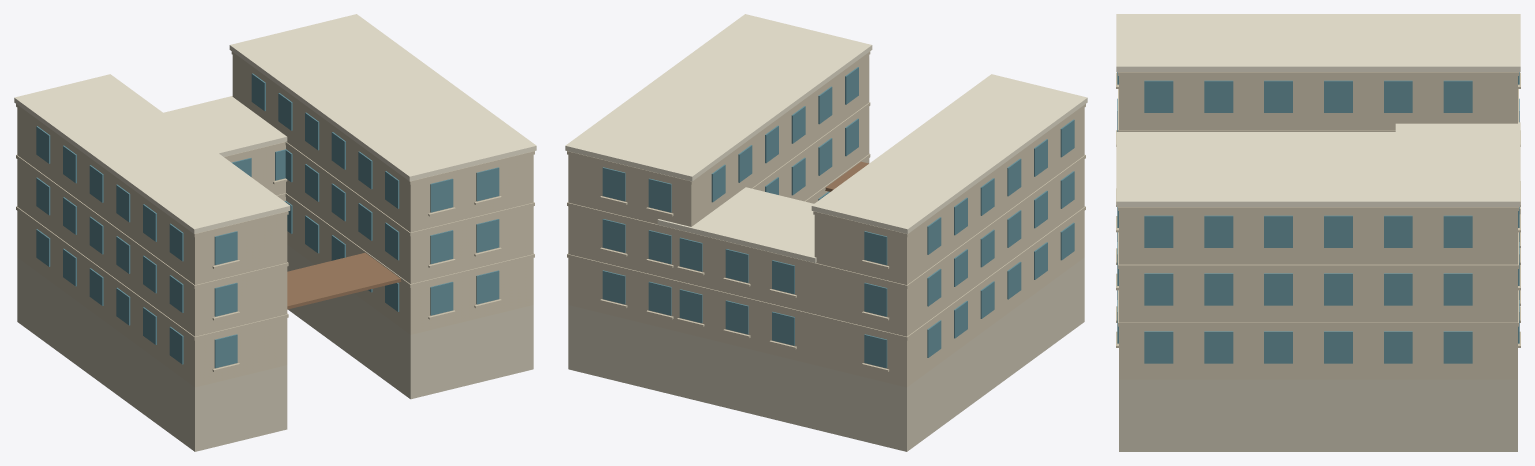
The model's file is courtyard-block-1.glb.
3 renders of one model, left to right at view 1: azimuth 30°, elevation 25°; view 2: azimuth 150°, elevation 25°; view 3: azimuth 270°, elevation 25°, orthographic. The views are drawn at different scales.
Bounding box in the file's own units: 22.25 × 13.9 × 20.28.
